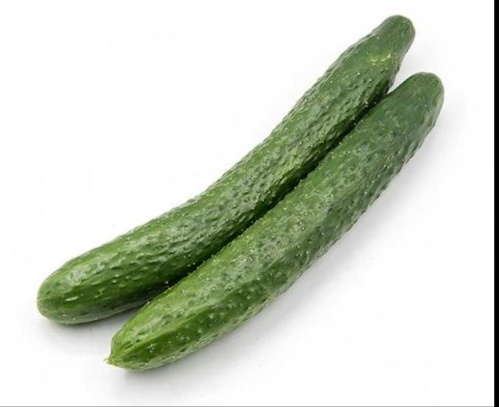cucumber: (43, 22, 417, 325), (113, 66, 439, 371)
